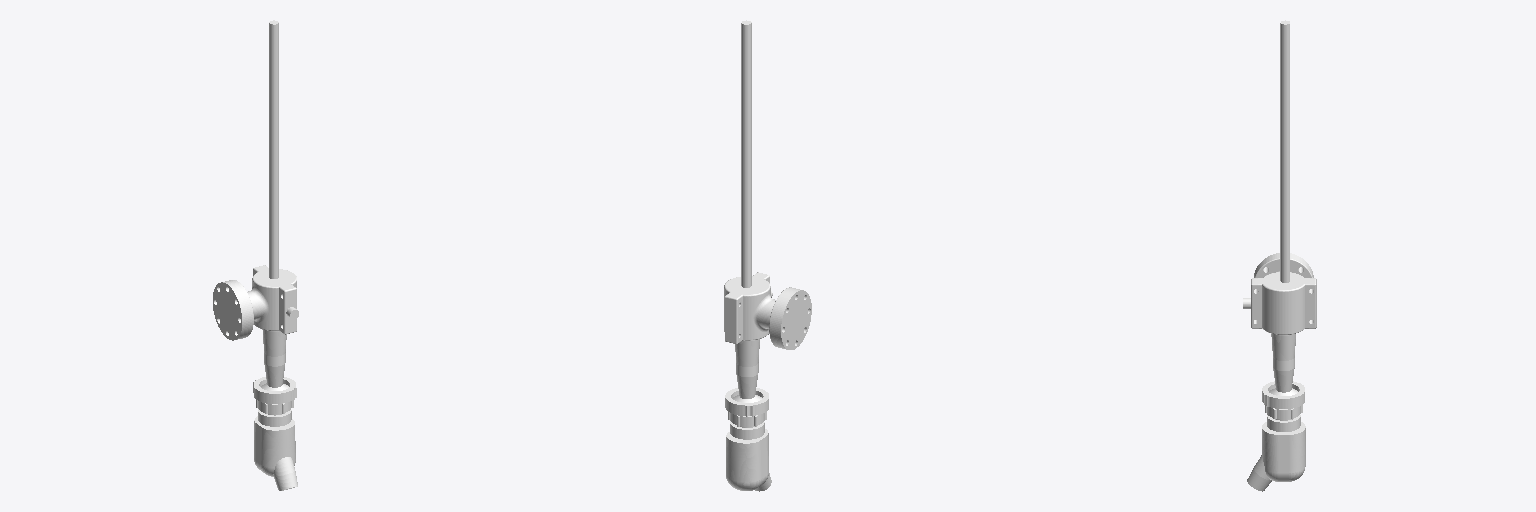
robot.urdf — lbr_storz_tilt_endoscope:
<?xml version="1.0" ?>
<!-- =================================================================================== -->
<!-- |    This document was autogenerated by xacro from lbr_storz_tilt_endoscope.urdf.xacro | -->
<!-- |    EDITING THIS FILE BY HAND IS NOT RECOMMENDED                                 | -->
<!-- =================================================================================== -->
<!-- Here we define the robot, we named it "lbr_storz_tilt_endoscope" -->
<robot name="lbr_storz_tilt_endoscope">
  <material name="orange">
    <color rgba="1.0 0.42 0.04 1.0"/>
  </material>
  <material name="white">
    <color rgba="1.0 1.0 1.0 1.0"/>
  </material>
  <material name="silver">
    <color rgba="0.7 0.7 0.7 1.0"/>
  </material>
  <!-- fix to world -->
  <link name="world"/>
  <!--joint between {parent} and link_0-->
  <joint name="world_lbr_joint" type="fixed">
    <parent link="world"/>
    <child link="lbr_link_0"/>
  </joint>
  <link name="lbr_link_0">
    <inertial>
      <origin rpy="0 0 0" xyz="-0.0018958727522859222 -8.736009549202623e-09 0.07626305487275586"/>
      <mass value="7.143078"/>
      <inertia ixx="0.038693" ixy="-0.000000" ixz="-0.000686" iyy="0.039461" iyz="-0.000000" izz="0.054387"/>
    </inertial>
    <visual>
      <origin rpy="0 0 0" xyz="0 0 0"/>
      <geometry>
        <mesh filename="lbr_description/meshes/med7/visual/link_0.stl"/>
      </geometry>
      <material name="white"/>
    </visual>
    <collision>
      <origin rpy="0 0 0" xyz="0 0 0"/>
      <geometry>
        <mesh filename="lbr_description/meshes/med7/collision/link_0.stl"/>
      </geometry>
    </collision>
  </link>
  <joint name="lbr_joint_0" type="revolute">
    <origin rpy="0 0 0" xyz="0.0 0.0 0.1475"/>
    <parent link="lbr_link_0"/>
    <child link="lbr_link_1"/>
    <axis xyz="0.0 0.0 1.0"/>
    <limit effort="100" lower="-2.9670597283903604" upper="2.9670597283903604" velocity="10"/>
    <dynamics damping="10.0" friction="0.1"/>
  </joint>
  <link name="lbr_link_1">
    <inertial>
      <origin rpy="0 0 0" xyz="5.010328793588479e-08 -0.03481903813472808 0.12329857163085542"/>
      <mass value="3.271492"/>
      <inertia ixx="0.020611" ixy="-0.000000" ixz="0.000000" iyy="0.019667" iyz="0.003660" izz="0.007290"/>
    </inertial>
    <visual>
      <origin rpy="0 0 0" xyz="-0.0 0.0 -0.1475"/>
      <geometry>
        <mesh filename="lbr_description/meshes/med7/visual/link_1.stl"/>
      </geometry>
      <material name="white"/>
    </visual>
    <collision>
      <origin rpy="0 0 0" xyz="-0.0 0.0 -0.1475"/>
      <geometry>
        <mesh filename="lbr_description/meshes/med7/collision/link_1.stl"/>
      </geometry>
    </collision>
  </link>
  <joint name="lbr_joint_1" type="revolute">
    <origin rpy="0 0 0" xyz="-0.0 -0.0105 0.1925"/>
    <parent link="lbr_link_1"/>
    <child link="lbr_link_2"/>
    <axis xyz="0.0 1.0 0.0"/>
    <limit effort="100" lower="-2.0943951023931953" upper="2.0943951023931953" velocity="10"/>
    <dynamics damping="10.0" friction="0.1"/>
  </joint>
  <link name="lbr_link_2">
    <inertial>
      <origin rpy="0 0 0" xyz="2.958275959973659e-08 0.03979295468456965 0.08694361150855662"/>
      <mass value="3.886440"/>
      <inertia ixx="0.030552" ixy="-0.000000" ixz="0.000000" iyy="0.028995" iyz="0.005676" izz="0.009317"/>
    </inertial>
    <visual>
      <origin rpy="0 0 0" xyz="0.0 0.0105 -0.34"/>
      <geometry>
        <mesh filename="lbr_description/meshes/med7/visual/link_2.stl"/>
      </geometry>
      <material name="white"/>
    </visual>
    <collision>
      <origin rpy="0 0 0" xyz="0.0 0.0105 -0.34"/>
      <geometry>
        <mesh filename="lbr_description/meshes/med7/collision/link_2.stl"/>
      </geometry>
    </collision>
  </link>
  <joint name="lbr_joint_2" type="revolute">
    <origin rpy="0 0 0" xyz="0.0 0.0105 0.2075"/>
    <parent link="lbr_link_2"/>
    <child link="lbr_link_3"/>
    <axis xyz="0.0 0.0 1.0"/>
    <limit effort="100" lower="-2.9670597283903604" upper="2.9670597283903604" velocity="10"/>
    <dynamics damping="10.0" friction="0.1"/>
  </joint>
  <link name="lbr_link_3">
    <inertial>
      <origin rpy="0 0 0" xyz="-5.010330962930412e-08 0.03481903813473644 0.1232985716309013"/>
      <mass value="3.271492"/>
      <inertia ixx="0.020611" ixy="-0.000000" ixz="-0.000000" iyy="0.019667" iyz="-0.003660" izz="0.007290"/>
    </inertial>
    <visual>
      <origin rpy="0 0 0" xyz="0.0 -0.0 -0.5475"/>
      <geometry>
        <mesh filename="lbr_description/meshes/med7/visual/link_3.stl"/>
      </geometry>
      <material name="white"/>
    </visual>
    <collision>
      <origin rpy="0 0 0" xyz="0.0 -0.0 -0.5475"/>
      <geometry>
        <mesh filename="lbr_description/meshes/med7/collision/link_3.stl"/>
      </geometry>
    </collision>
  </link>
  <joint name="lbr_joint_3" type="revolute">
    <origin rpy="0 0 0" xyz="0.0 0.0105 0.1925"/>
    <parent link="lbr_link_3"/>
    <child link="lbr_link_4"/>
    <axis xyz="0.0 -1.0 0.0"/>
    <limit effort="100" lower="-2.0943951023931953" upper="2.0943951023931953" velocity="10"/>
    <dynamics damping="10.0" friction="0.1"/>
  </joint>
  <link name="lbr_link_4">
    <inertial>
      <origin rpy="0 0 0" xyz="-3.025230048709993e-08 -0.03979329512443697 0.08694363375610437"/>
      <mass value="3.886439"/>
      <inertia ixx="0.030551" ixy="-0.000000" ixz="-0.000000" iyy="0.028993" iyz="-0.005676" izz="0.009316"/>
    </inertial>
    <visual>
      <origin rpy="0 0 0" xyz="-0.0 -0.0105 -0.74"/>
      <geometry>
        <mesh filename="lbr_description/meshes/med7/visual/link_4.stl"/>
      </geometry>
      <material name="white"/>
    </visual>
    <collision>
      <origin rpy="0 0 0" xyz="-0.0 -0.0105 -0.74"/>
      <geometry>
        <mesh filename="lbr_description/meshes/med7/collision/link_4.stl"/>
      </geometry>
    </collision>
  </link>
  <joint name="lbr_joint_4" type="revolute">
    <origin rpy="0 0 0" xyz="-0.0 -0.0105 0.2075"/>
    <parent link="lbr_link_4"/>
    <child link="lbr_link_5"/>
    <axis xyz="0.0 0.0 1.0"/>
    <limit effort="100" lower="-2.9670597283903604" upper="2.9670597283903604" velocity="10"/>
    <dynamics damping="10.0" friction="0.1"/>
  </joint>
  <link name="lbr_link_5">
    <inertial>
      <origin rpy="0 0 0" xyz="3.887174133882675e-08 -0.02982428408876193 0.07626701716135398"/>
      <mass value="1.474035"/>
      <inertia ixx="0.008179" ixy="0.000000" ixz="-0.000000" iyy="0.006879" iyz="0.002704" izz="0.003709"/>
    </inertial>
    <visual>
      <origin rpy="0 0 0" xyz="0.0 0.0 -0.9475"/>
      <geometry>
        <mesh filename="lbr_description/meshes/med7/visual/link_5.stl"/>
      </geometry>
      <material name="white"/>
    </visual>
    <collision>
      <origin rpy="0 0 0" xyz="0.0 0.0 -0.9475"/>
      <geometry>
        <mesh filename="lbr_description/meshes/med7/collision/link_5.stl"/>
      </geometry>
    </collision>
  </link>
  <joint name="lbr_joint_5" type="revolute">
    <origin rpy="0 0 0" xyz="0.0 -0.0707 0.1925"/>
    <parent link="lbr_link_5"/>
    <child link="lbr_link_6"/>
    <axis xyz="0.0 1.0 0.0"/>
    <limit effort="100" lower="-2.0943951023931953" upper="2.0943951023931953" velocity="10"/>
    <dynamics damping="10.0" friction="0.1"/>
  </joint>
  <link name="lbr_link_6">
    <inertial>
      <origin rpy="0 0 0" xyz="-7.073221144775636e-07 0.07101990943401648 0.004952526180360017"/>
      <mass value="2.316917"/>
      <inertia ixx="0.006813" ixy="-0.000000" ixz="0.000000" iyy="0.006559" iyz="0.000300" izz="0.004462"/>
    </inertial>
    <visual>
      <origin rpy="0 0 0" xyz="0.0 0.0707 -1.14"/>
      <geometry>
        <mesh filename="lbr_description/meshes/med7/visual/link_6.stl"/>
      </geometry>
      <material name="white"/>
    </visual>
    <collision>
      <origin rpy="0 0 0" xyz="0.0 0.0707 -1.14"/>
      <geometry>
        <mesh filename="lbr_description/meshes/med7/collision/link_6.stl"/>
      </geometry>
    </collision>
  </link>
  <joint name="lbr_joint_6" type="revolute">
    <origin rpy="0 0 0" xyz="0.0 0.0707 0.091"/>
    <parent link="lbr_link_6"/>
    <child link="lbr_link_7"/>
    <axis xyz="0.0 0.0 1.0"/>
    <limit effort="100" lower="-3.0543261909900763" upper="3.0543261909900763" velocity="10"/>
    <dynamics damping="10.0" friction="0.1"/>
  </joint>
  <link name="lbr_link_7">
    <inertial>
      <origin rpy="0 0 0" xyz="3.1218274599808524e-06 -1.6358155634513969e-06 0.013782295521067356"/>
      <mass value="0.250107"/>
      <inertia ixx="0.000165" ixy="0.000000" ixz="-0.000000" iyy="0.000165" iyz="0.000000" izz="0.000288"/>
    </inertial>
    <visual>
      <origin rpy="0 0 0" xyz="-0.0 -0.0 -1.231"/>
      <geometry>
        <mesh filename="lbr_description/meshes/med7/visual/link_7.stl"/>
      </geometry>
      <material name="silver"/>
    </visual>
    <collision>
      <origin rpy="0 0 0" xyz="-0.0 -0.0 -1.231"/>
      <geometry>
        <mesh filename="lbr_description/meshes/med7/collision/link_7.stl"/>
      </geometry>
    </collision>
  </link>
  <joint name="lbr_joint_ee" type="fixed">
    <parent link="lbr_link_7"/>
    <child link="lbr_link_ee"/>
    <origin rpy="0 0 0" xyz="0 0 0.035"/>
  </joint>
  <link name="lbr_link_ee">
        </link>
  <!-- ros_control-plugin -->
  <gazebo>
    <plugin filename="libgazebo_ros2_control.so" name="gazebo_ros2_control">
      <parameters>[local-path]/ros/lbr_with_tools_ws/install/lbr_bringup/share/lbr_bringup/config/lbr_controllers.yml</parameters>
      <robotNamespace>/lbr</robotNamespace>
    </plugin>
  </gazebo>
  <!-- link 0 -->
  <gazebo reference="lbr_link_0">
    <mu1>0.2</mu1>
    <mu2>0.2</mu2>
    <material>Gazebo/White</material>
  </gazebo>
  <!-- link 1 -->
  <gazebo reference="lbr_link_1">
    <mu1>0.2</mu1>
    <mu2>0.2</mu2>
    <material>Gazebo/White</material>
  </gazebo>
  <!-- link 2 -->
  <gazebo reference="lbr_link_2">
    <mu1>0.2</mu1>
    <mu2>0.2</mu2>
    <material>Gazebo/White</material>
  </gazebo>
  <!-- link 3 -->
  <gazebo reference="lbr_link_3">
    <mu1>0.2</mu1>
    <mu2>0.2</mu2>
    <material>Gazebo/White</material>
  </gazebo>
  <!-- link 4 -->
  <gazebo reference="lbr_link_4">
    <mu1>0.2</mu1>
    <mu2>0.2</mu2>
    <material>Gazebo/White</material>
  </gazebo>
  <!-- link 5 -->
  <gazebo reference="lbr_link_5">
    <mu1>0.2</mu1>
    <mu2>0.2</mu2>
    <material>Gazebo/White</material>
  </gazebo>
  <!-- link 6 -->
  <gazebo reference="lbr_link_6">
    <mu1>0.2</mu1>
    <mu2>0.2</mu2>
    <material>Gazebo/White</material>
  </gazebo>
  <!-- link 7 -->
  <gazebo reference="lbr_link_7">
    <mu1>0.2</mu1>
    <mu2>0.2</mu2>
    <material>Gazebo/Grey</material>
  </gazebo>
  <!-- arg for control mode -->
  <ros2_control name="lbr_hardware_interface" type="system">
    <hardware>
      <plugin>gazebo_ros2_control/GazeboSystem</plugin>
    </hardware>
    <!-- define joints and command/state interfaces for each joint -->
    <joint name="lbr_joint_0">
      <command_interface name="position">
        <!-- better to use radians as min max first -->
        <param name="min">-1</param>
        <param name="max"> 1</param>
      </command_interface>
      <command_interface name="effort">
        <param name="min">-1</param>
        <param name="max"> 1</param>
      </command_interface>
      <state_interface name="position"/>
      <state_interface name="effort"/>
    </joint>
    <joint name="lbr_joint_1">
      <command_interface name="position">
        <param name="min">-1</param>
        <param name="max"> 1</param>
      </command_interface>
      <command_interface name="effort">
        <param name="min">-1</param>
        <param name="max"> 1</param>
      </command_interface>
      <state_interface name="position"/>
      <state_interface name="effort"/>
    </joint>
    <joint name="lbr_joint_2">
      <command_interface name="position">
        <param name="min">-1</param>
        <param name="max"> 1</param>
      </command_interface>
      <command_interface name="effort">
        <param name="min">-1</param>
        <param name="max"> 1</param>
      </command_interface>
      <state_interface name="position"/>
      <state_interface name="effort"/>
    </joint>
    <joint name="lbr_joint_3">
      <command_interface name="position">
        <param name="min">-1</param>
        <param name="max"> 1</param>
      </command_interface>
      <command_interface name="effort">
        <param name="min">-1</param>
        <param name="max"> 1</param>
      </command_interface>
      <state_interface name="position"/>
      <state_interface name="effort"/>
    </joint>
    <joint name="lbr_joint_4">
      <command_interface name="position">
        <param name="min">-1</param>
        <param name="max"> 1</param>
      </command_interface>
      <command_interface name="effort">
        <param name="min">-1</param>
        <param name="max"> 1</param>
      </command_interface>
      <state_interface name="position"/>
      <state_interface name="effort"/>
    </joint>
    <joint name="lbr_joint_5">
      <command_interface name="position">
        <param name="min">-1</param>
        <param name="max"> 1</param>
      </command_interface>
      <command_interface name="effort">
        <param name="min">-1</param>
        <param name="max"> 1</param>
      </command_interface>
      <state_interface name="position"/>
      <state_interface name="effort"/>
    </joint>
    <joint name="lbr_joint_6">
      <command_interface name="position">
        <param name="min">-1</param>
        <param name="max"> 1</param>
      </command_interface>
      <command_interface name="effort">
        <param name="min">-1</param>
        <param name="max"> 1</param>
      </command_interface>
      <state_interface name="position"/>
      <state_interface name="effort"/>
    </joint>
  </ros2_control>
  <!--joint between {parent} and link_0-->
  <joint name="lbr_link_ee_storz_tilt_endoscope_joint" type="fixed">
    <parent link="lbr_link_ee"/>
    <child link="storz_tilt_endoscope_link_0"/>
    <origin rpy="0 -1.57079632679 1.57079632679" xyz="0 0 0"/>
  </joint>
  <!-- link 0 -->
  <link name="storz_tilt_endoscope_link_0">
    <inertial>
      <origin rpy="0 0 0" xyz="0.04830297365758059 -0.0006782042494082333 -0.06627211587266267"/>
      <mass value="2.359529998440728"/>
      <inertia ixx="0.013457" ixy="1.3e-05" ixz="0.001204" iyy="0.013939" iyz="-0.000161" izz="0.001273"/>
    </inertial>
    <visual>
      <origin rpy="0 0 0" xyz="0 0 0"/>
      <geometry>
        <mesh filename="storz_tilt_endoscope_description/meshes/visual/link_0.stl" scale="0.001 0.001 0.001"/>
      </geometry>
      <material name="white">
        <color rgba="1.0 1.0 1.0 1.0"/>
      </material>
    </visual>
    <collision>
      <origin rpy="0 0 0" xyz="0 0 0"/>
      <geometry>
        <mesh filename="storz_tilt_endoscope_description/meshes/collision/link_0.stl" scale="0.001 0.001 0.001"/>
      </geometry>
    </collision>
  </link>
  <joint name="storz_tilt_endoscope_joint_1" type="fixed">
    <origin rpy="0 0 0" xyz="0.056 0.00165 0.025"/>
    <parent link="storz_tilt_endoscope_link_0"/>
    <child link="storz_tilt_endoscope_link_1"/>
  </joint>
  <!-- link 1 -->
  <link name="storz_tilt_endoscope_link_1">
    <inertial>
      <origin rpy="0 0 0" xyz="8.326672684688674e-17 -2.168404344971009e-19 0.14370000000000033"/>
      <mass value="0.17719289424593487"/>
      <inertia ixx="0.001221" ixy="-0.0" ixz="0.0" iyy="0.001221" iyz="-0.0" izz="2e-06"/>
    </inertial>
    <visual>
      <origin rpy="0 0 0" xyz="-0.056 -0.00165 -0.025"/>
      <geometry>
        <mesh filename="storz_tilt_endoscope_description/meshes/visual/link_1.stl" scale="0.001 0.001 0.001"/>
      </geometry>
      <material name="white">
        <color rgba="1.0 1.0 1.0 1.0"/>
      </material>
    </visual>
    <collision>
      <origin rpy="0 0 0" xyz="-0.056 -0.00165 -0.025"/>
      <geometry>
        <mesh filename="storz_tilt_endoscope_description/meshes/collision/link_1.stl" scale="0.001 0.001 0.001"/>
      </geometry>
    </collision>
  </link>
  <joint name="storz_tilt_endoscope_joint_cm" type="fixed">
    <origin rpy="-1.57079632679 -1.57079632679 0" xyz="0.0 0.0 0.2874"/>
    <parent link="storz_tilt_endoscope_link_1"/>
    <child link="storz_tilt_endoscope_link_cm"/>
  </joint>
  <!-- camera link -->
  <link name="storz_tilt_endoscope_link_cm"/>
  <!-- optical frame https://answers.ros.org/question/232534/gazebo-camera-frame-is-inconsistent-with-rviz-opencv-convention/ -->
  <joint name="storz_tilt_endoscope_joint_cm_optical" type="fixed">
    <!-- add continuous joint to rotate image digitally -->
    <parent link="storz_tilt_endoscope_link_cm"/>
    <child link="storz_tilt_endoscope_link_cm_optical"/>
    <origin rpy="-1.57079632679 0 -1.57079632679" xyz="0 0 0"/>
    <!--axis xyz="0.0 0.0 0.01"/-->
    <!-- rotate about the optical axis -->
  </joint>
  <link name="storz_tilt_endoscope_link_cm_optical">
        </link>
  <!-- link 0 -->
  <gazebo reference="storz_tilt_endoscope_link_0">
    <mu1>0.2</mu1>
    <mu2>0.2</mu2>
    <material>Gazebo/Grey</material>
    <gravity>0</gravity>
  </gazebo>
  <!-- link 1 -->
  <gazebo reference="storz_tilt_endoscope_link_1">
    <mu1>0.2</mu1>
    <mu2>0.2</mu2>
    <material>Gazebo/Grey</material>
    <gravity>0</gravity>
  </gazebo>
  <!-- camera -->
  <gazebo reference="storz_tilt_endoscope_link_cm">
    <sensor name="storz_tilt_endoscope_camera" type="camera">
      <update_rate>30.0</update_rate>
      <camera name="head">
        <horizontal_fov>1.3962634</horizontal_fov>
        <image>
          <width>320</width>
          <height>240</height>
          <format>R8G8B8</format>
        </image>
        <clip>
          <near>0.02</near>
          <far>300</far>
        </clip>
      </camera>
      <plugin filename="libgazebo_ros_camera.so" name="camera_controller">
        <alwaysOn>true</alwaysOn>
        <updateRate>0.0</updateRate>
        <robotNamespace>/lbr</robotNamespace>
        <cameraName>storz_tilt_endoscope_camera</cameraName>
        <imageTopicName>image_raw</imageTopicName>
        <cameraInfoTopicName>camera_info</cameraInfoTopicName>
        <frameName>storz_tilt_endoscope_link_cm_optical</frameName>
        <hackBaseline>0.07</hackBaseline>
        <distortionK1>0.0</distortionK1>
        <distortionK2>0.0</distortionK2>
        <distortionK3>0.0</distortionK3>
        <distortionT1>0.0</distortionT1>
        <distortionT2>0.0</distortionT2>
      </plugin>
    </sensor>
    <gravity>0</gravity>
  </gazebo>
</robot>

--- Facts derived from the render (not from the file) ---
Views: 3 orthographic renders of the robot side by side, from view 1: azimuth 30°, elevation 25°; view 2: azimuth 150°, elevation 25°; view 3: azimuth 270°, elevation 25°.
Model lbr_storz_tilt_endoscope with 14 links and 13 joints (7 revolute, 6 fixed), rooted at world, posed all joints at 0.
Links seen in each view (by area): view 1: lbr_link_0, lbr_link_1; view 2: lbr_link_0, lbr_link_1; view 3: lbr_link_0, lbr_link_1.
Boxes of the visible links, left/top/right/bottom form: lbr_link_0: left=213, top=265, right=298, bottom=490; lbr_link_1: left=269, top=20, right=278, bottom=278; lbr_link_0: left=724, top=272, right=811, bottom=491; lbr_link_1: left=741, top=20, right=751, bottom=287; lbr_link_0: left=1243, top=253, right=1316, bottom=491; lbr_link_1: left=1280, top=20, right=1289, bottom=282.
Bounding box of the posed robot: 79.02 × 73.7 × 520 m (x, y, z).
Meshes: 10 distinct files referenced, 4 mesh visuals loaded (2 binary STL); not drawn: 6 (reference not matched to a file when rendering).